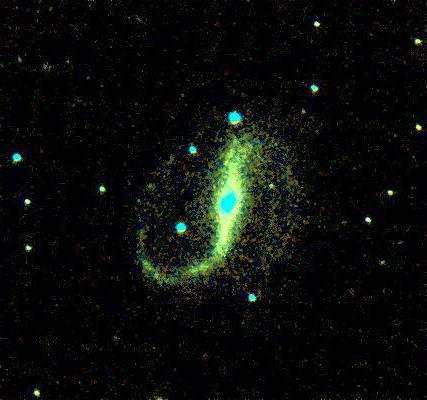star: (199, 171, 229, 201)
